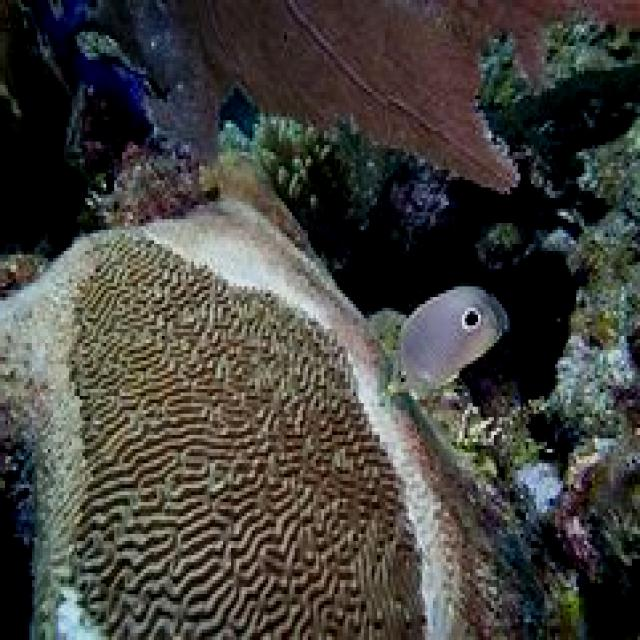Coral: (0, 200, 593, 640), (84, 0, 640, 195)
